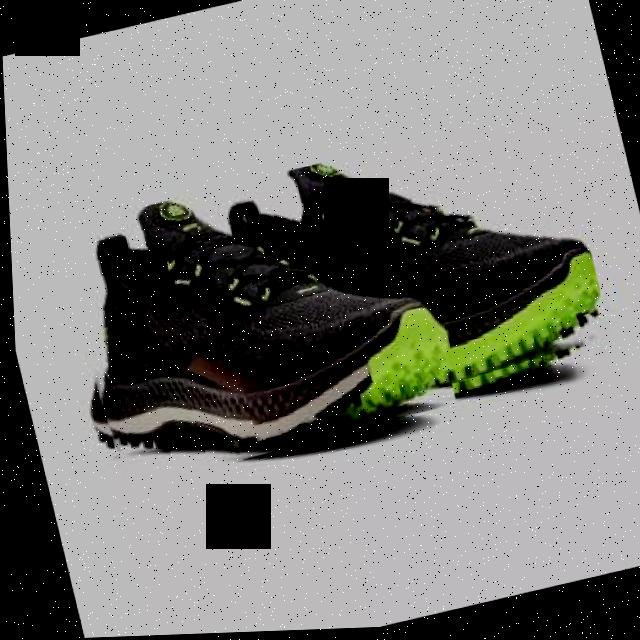shoe: (184, 111, 615, 446), (45, 149, 457, 496)
